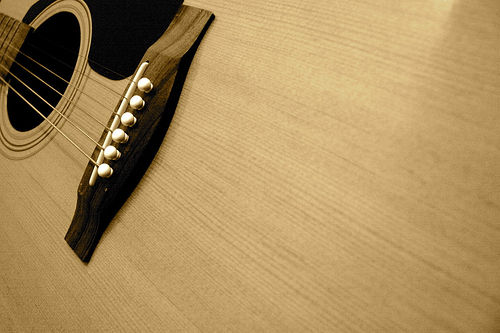guitar: (1, 1, 500, 331)
